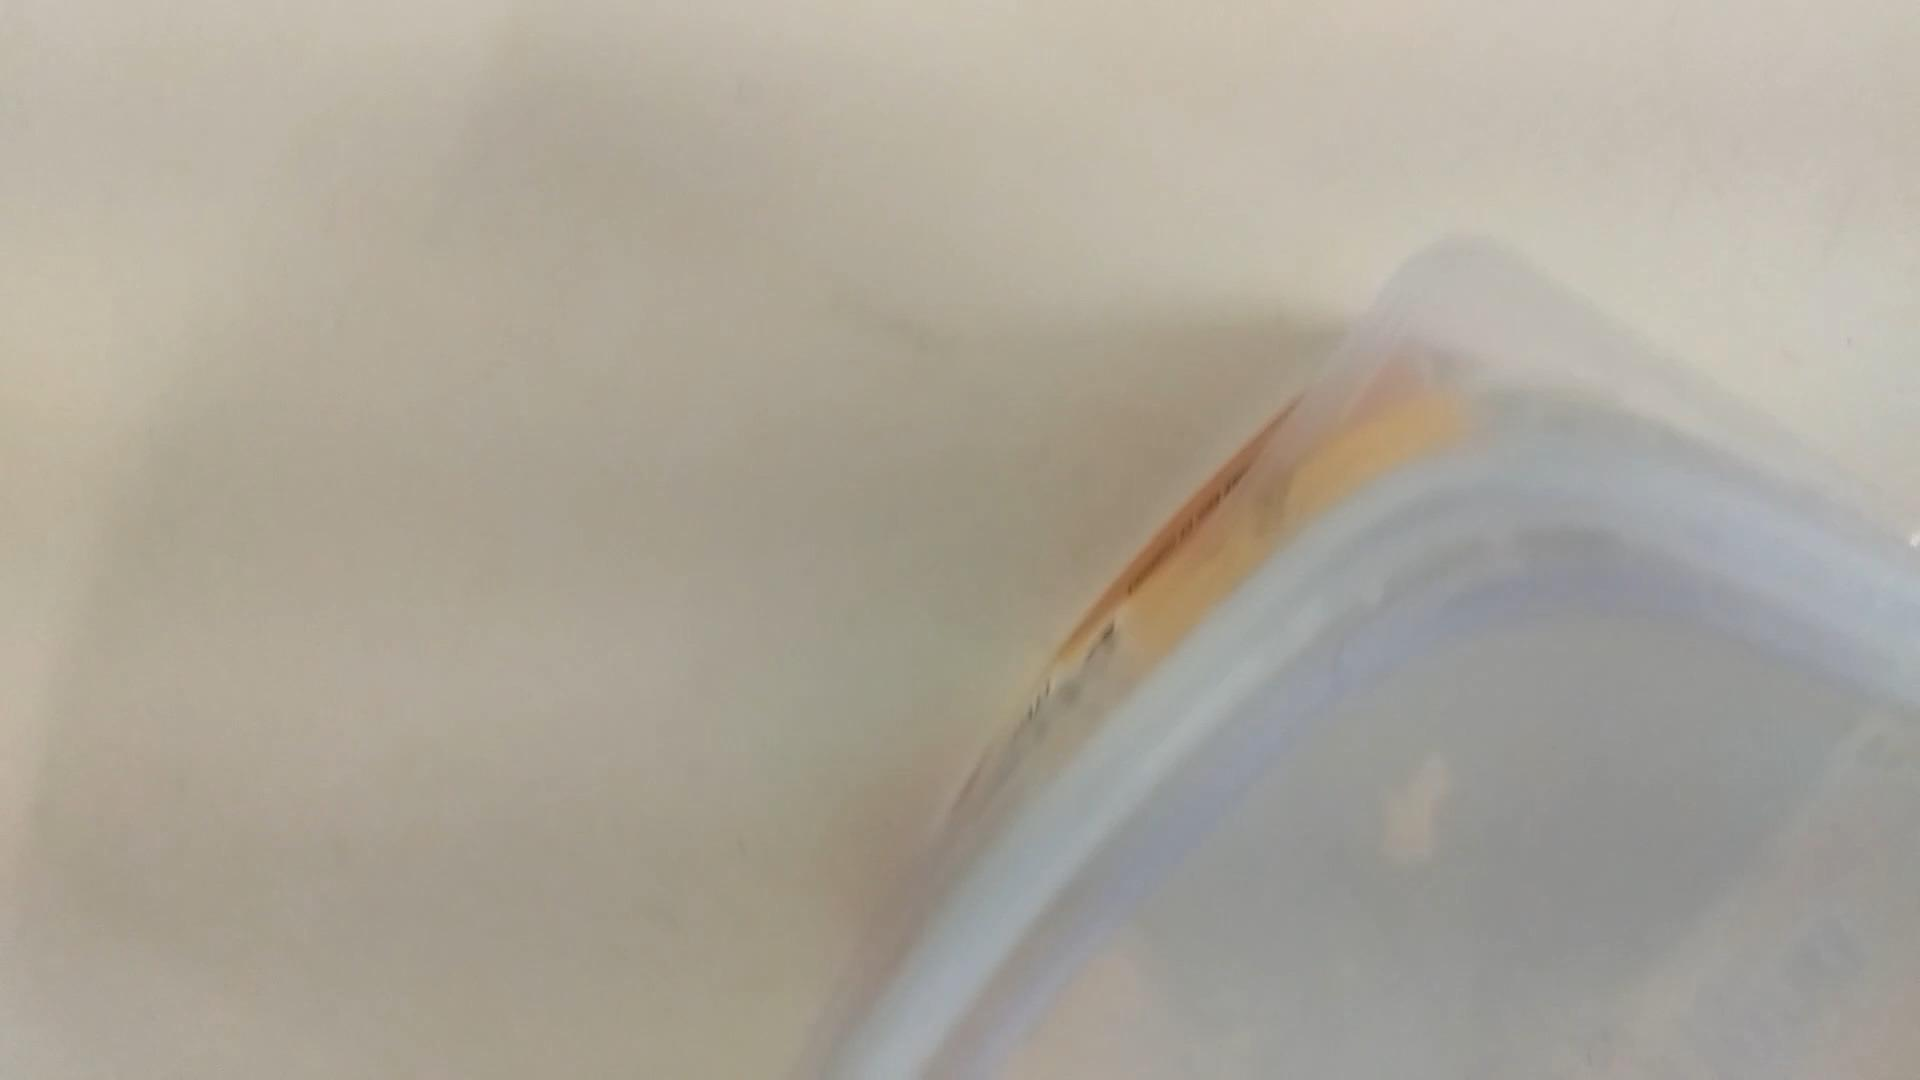butter: (746, 266, 1920, 1080)
